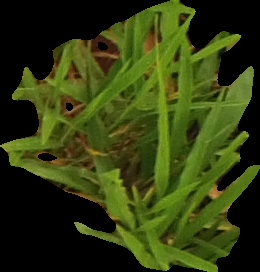grass: (1, 1, 259, 271)
